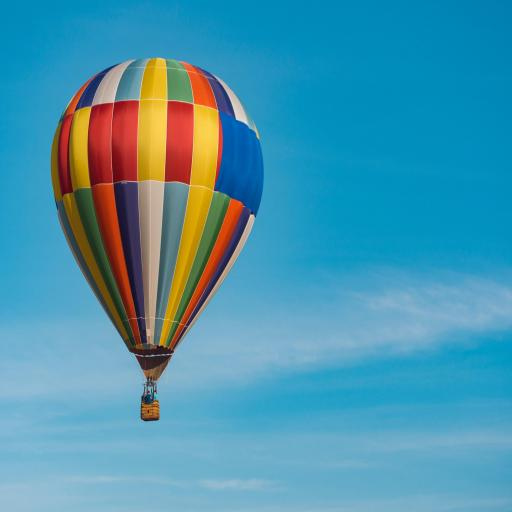hot air ballon: (46, 51, 270, 426)
